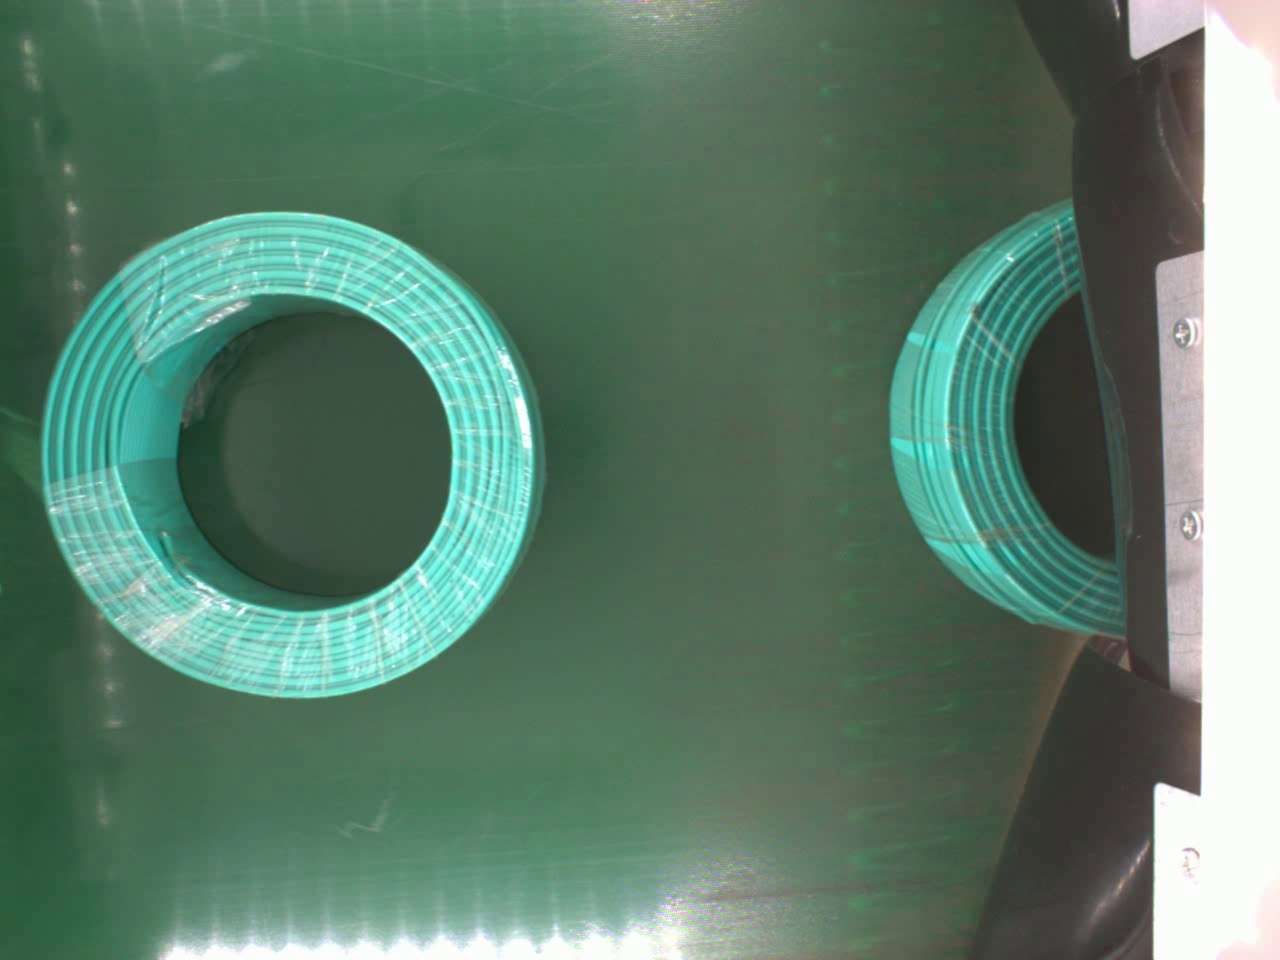green: (36, 211, 549, 700), (884, 192, 1122, 635)
